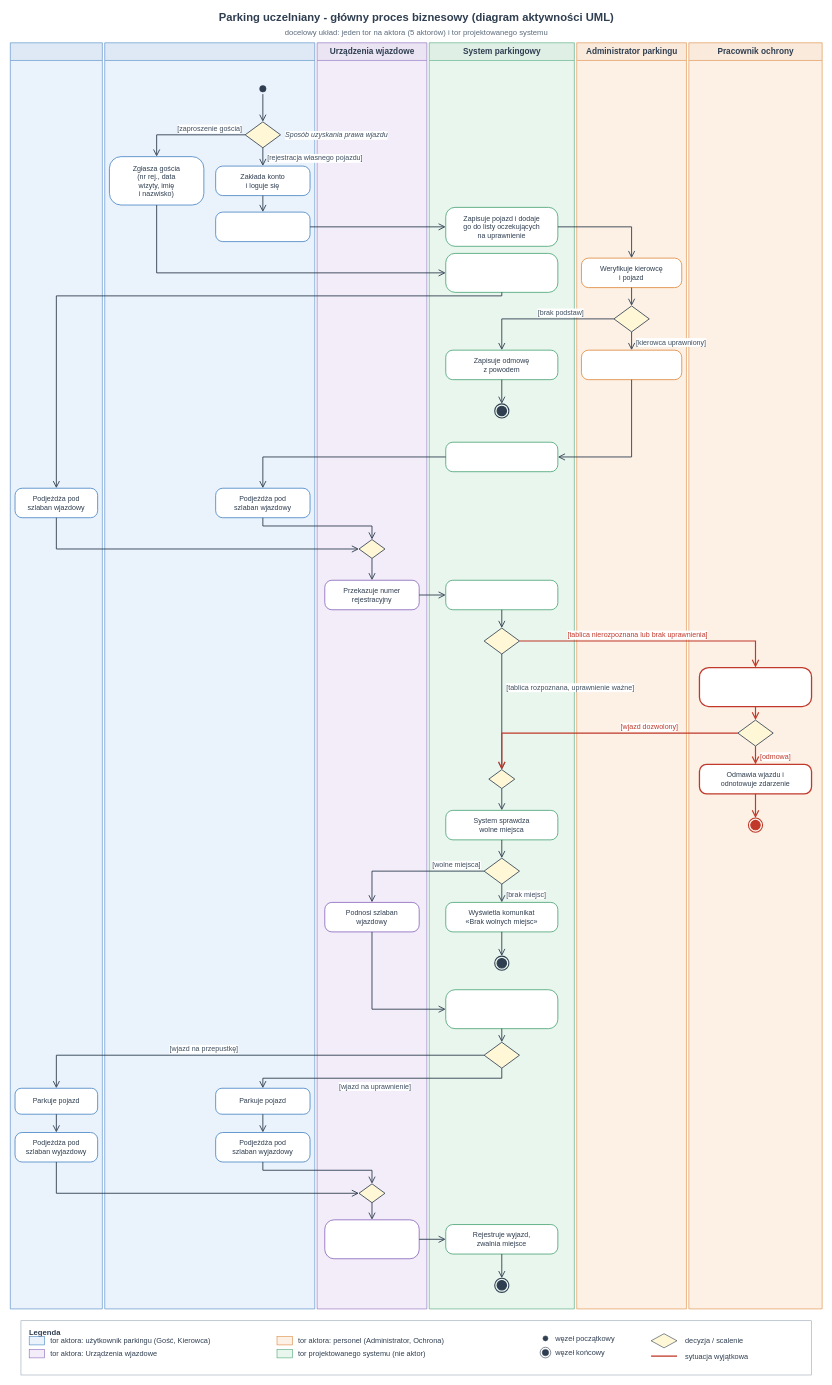
Image size: 832x1385. Some labels were removed from this diagram. The box of each missing label's shape, as (x1, y1, x2, y2) in pixels:
Aktywuje uprawnienie pojazdu: (445, 441, 558, 472)
Gość: (10, 42, 102, 1309)
Kierowca: (104, 42, 315, 1309)
Nadaje uprawnienie (strefa, okres ważności): (581, 349, 682, 380)
Przekazuje numer i podnosi szlaban wyjazdowy: (324, 1219, 419, 1259)
Rejestruje pojazd (numer rejestracyjny): (215, 211, 310, 242)
Rejestruje wjazd, zmniejsza liczbę wolnych miejsc: (445, 989, 558, 1029)
Sprawdza uprawnienie pojazdu: (445, 580, 558, 610)
Weryfikuje kierowcę ręcznie (np. gość bez przepustki): (699, 667, 812, 707)
Wystawia przepustkę jednorazową na dzień wizyty: (445, 253, 558, 292)
